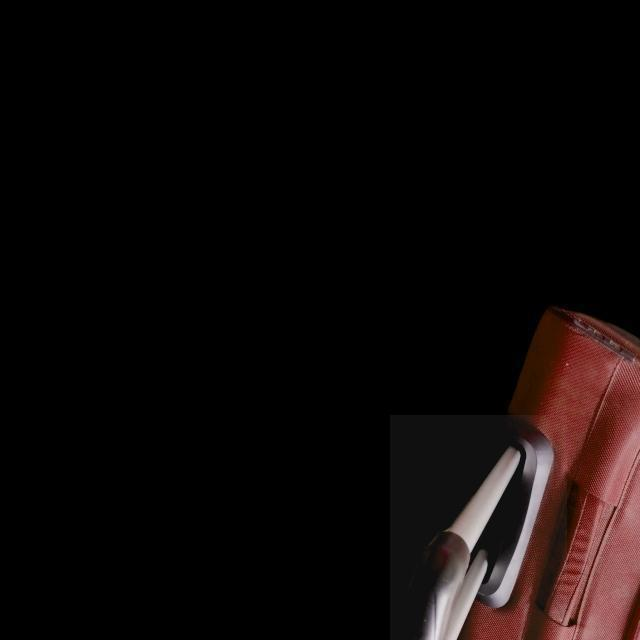Suitcase: (379, 276, 640, 640)
